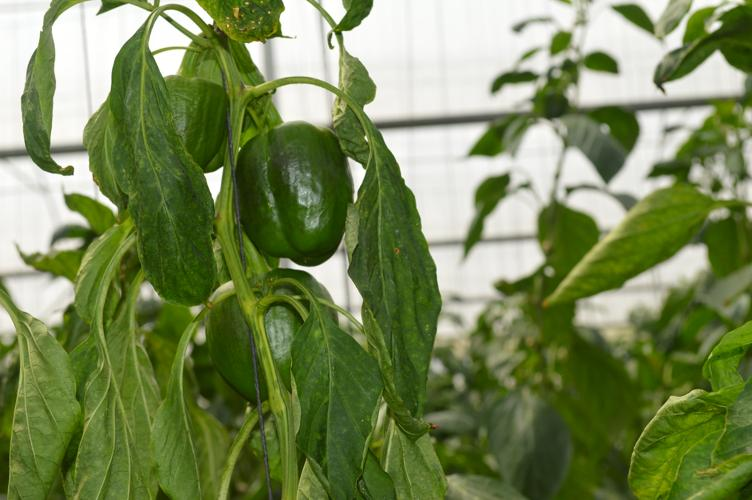BellPepper: (234, 122, 356, 267), (206, 271, 334, 402), (154, 76, 222, 172)
